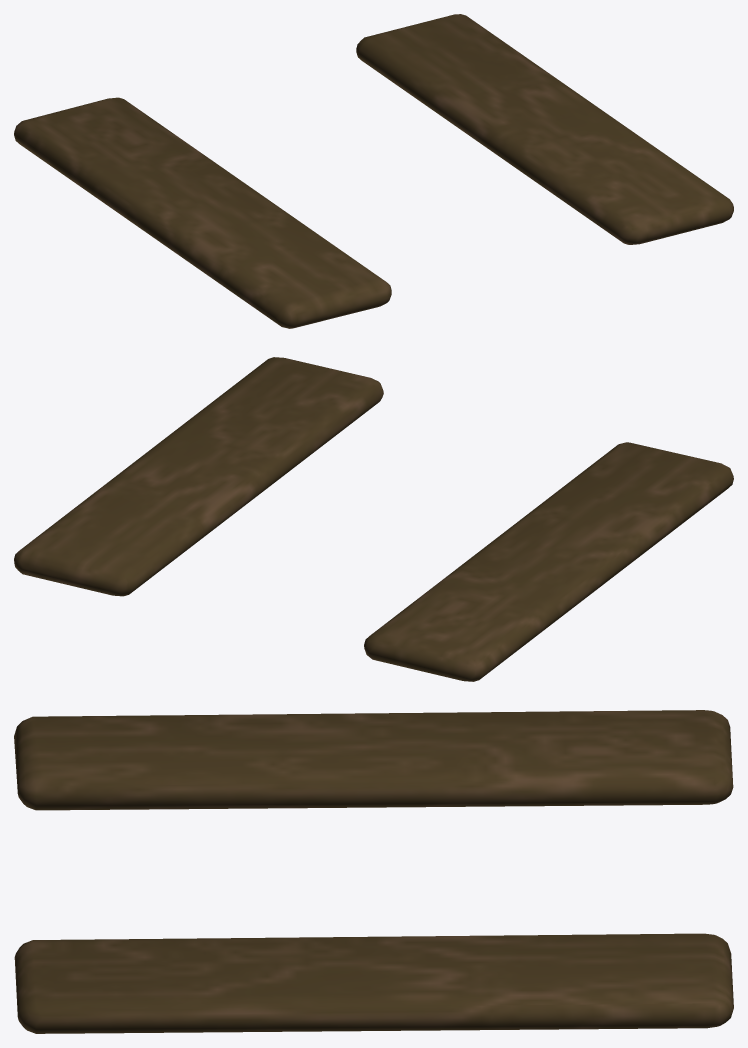
3 renders of one model, top to bottom at view 1: azimuth 30°, elevation 25°; view 2: azimuth 150°, elevation 25°; view 3: azimuth 270°, elevation 25°, orthographic. The views are drawn at different scales.
Parts seen in each view (by area): view 1: Cube.005_Baked; view 2: Cube.005_Baked; view 3: Cube.005_Baked.
Boxes of the visible parts, x1,y1,x2,y2 form: Cube.005_Baked: [14, 14, 733, 328]; Cube.005_Baked: [14, 357, 733, 681]; Cube.005_Baked: [14, 710, 733, 1033].
Size of the model in its own units: 209 by 10.87 by 208.
Materials: 1 (1 with a texture image).
